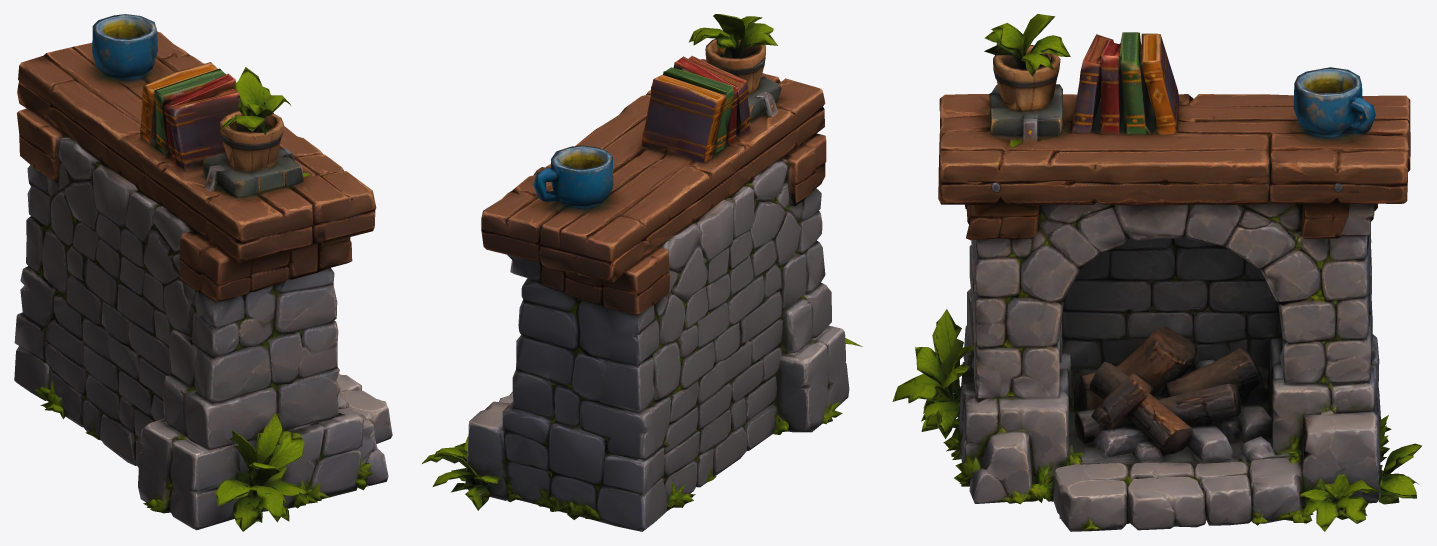
Rendered from fireplace.glb.
3 renders of one model, left to right at view 1: azimuth 30°, elevation 25°; view 2: azimuth 150°, elevation 25°; view 3: azimuth 270°, elevation 25°, orthographic. The views are drawn at different scales.
Parts seen in each view (by area): view 1: tripo_node_f2c14249-6479-4906-9000-2c2ff0fdaf6f; view 2: tripo_node_f2c14249-6479-4906-9000-2c2ff0fdaf6f; view 3: tripo_node_f2c14249-6479-4906-9000-2c2ff0fdaf6f.
Part boxes in pixels (x1,y1,x2,y2): tripo_node_f2c14249-6479-4906-9000-2c2ff0fdaf6f: [14, 14, 392, 531]; tripo_node_f2c14249-6479-4906-9000-2c2ff0fdaf6f: [422, 14, 862, 531]; tripo_node_f2c14249-6479-4906-9000-2c2ff0fdaf6f: [892, 14, 1421, 531].
Size of the model in its own units: 0.6453 by 0.9095 by 1.
Materials: 1 (1 with a texture image).
